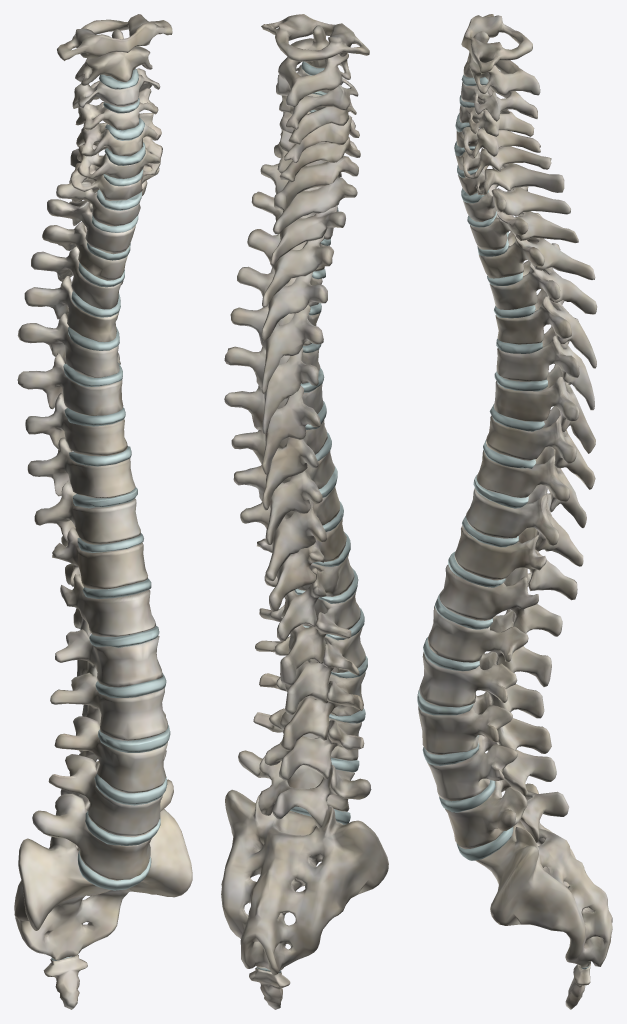
File: spine.glb
The picture shows the model from 3 angles, left to right: view 1: azimuth 30°, elevation 25°; view 2: azimuth 150°, elevation 25°; view 3: azimuth 270°, elevation 25°; orthographic projection. The views are drawn at different scales.
Parts seen in each view (by area): view 1: Sacrum, L5_vertebra, L2_vertebra, L3_vertebra, L4_vertebra, L1_vertebra, T10_vertebra, T12_vertebra, T11_vertebra, T9_vertebra, T7_vertebra, T8_vertebra (+31 smaller); view 2: Sacrum, L5_vertebra, L4_vertebra, L3_vertebra, T7_vertebra, L1_vertebra, L2_vertebra, T10_vertebra, T9_vertebra, T6_vertebra, T5_vertebra, T8_vertebra (+15 smaller); view 3: Sacrum, L3_vertebra, L1_vertebra, L2_vertebra, L4_vertebra, T12_vertebra, L5_vertebra, T11_vertebra, T10_vertebra, T7_vertebra, T9_vertebra, T8_vertebra (+26 smaller).
Part boxes in pixels (<box>): Sacrum: <box>14,809,192,959</box>; L5_vertebra: <box>32,779,173,880</box>; L2_vertebra: <box>50,672,167,740</box>; L3_vertebra: <box>54,711,167,793</box>; L4_vertebra: <box>48,750,166,837</box>; L1_vertebra: <box>55,629,162,687</box>; T10_vertebra: <box>34,481,140,546</box>; T12_vertebra: <box>60,574,155,636</box>; T11_vertebra: <box>52,526,147,589</box>; T9_vertebra: <box>27,437,135,498</box>; T7_vertebra: <box>17,352,123,415</box>; T8_vertebra: <box>25,393,127,456</box>; Sacrum: <box>221,789,388,975</box>; L5_vertebra: <box>238,750,371,828</box>; L4_vertebra: <box>253,708,364,780</box>; L3_vertebra: <box>259,672,365,750</box>; T7_vertebra: <box>224,384,323,474</box>; L1_vertebra: <box>259,591,360,685</box>; L2_vertebra: <box>255,627,365,714</box>; T10_vertebra: <box>240,486,340,580</box>; T9_vertebra: <box>233,451,334,544</box>; T6_vertebra: <box>224,346,320,434</box>; T5_vertebra: <box>230,304,323,394</box>; T8_vertebra: <box>231,420,327,510</box>; Sacrum: <box>475,783,612,967</box>; L3_vertebra: <box>418,692,551,754</box>; L1_vertebra: <box>427,605,551,686</box>; L2_vertebra: <box>419,651,544,718</box>; L4_vertebra: <box>427,734,556,801</box>; T12_vertebra: <box>439,564,562,636</box>; L5_vertebra: <box>445,779,569,849</box>; T11_vertebra: <box>454,525,577,600</box>; T10_vertebra: <box>466,484,583,566</box>; T7_vertebra: <box>493,364,595,453</box>; T9_vertebra: <box>476,447,586,527</box>; T8_vertebra: <box>486,406,595,489</box>.
Size of the model in its own units: 0.1178 by 0.6943 by 0.1252.
Materials: 50 (50 with a texture image).
